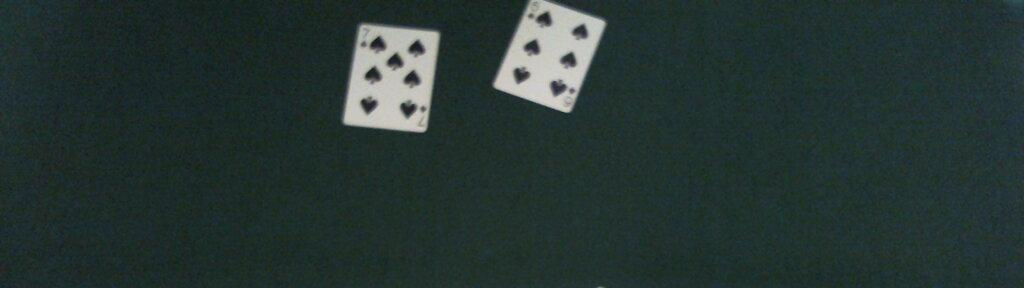seven: (341, 22, 439, 133)
six: (491, 1, 607, 113)
